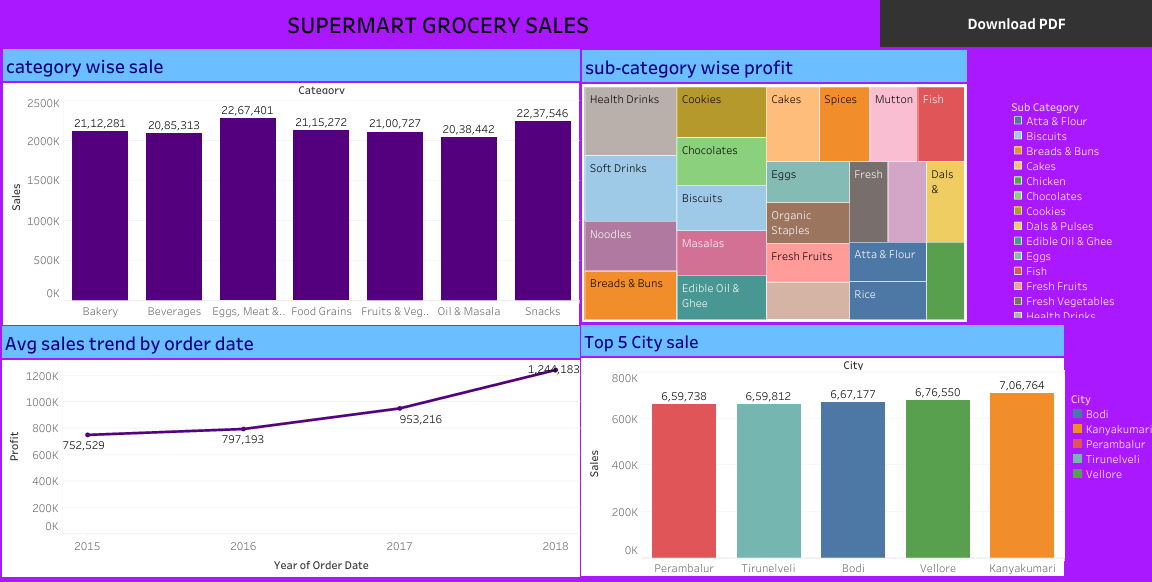

Layout of this report page (visuals, bound fields, positions):
{"tool":"tableau","page":{"name":"Dashboard 1","canvas":[1000,1000],"units":"permille","ordinal":0},"visuals":[{"type":"dashboard-object","box":[762.5,4,236.3,79.1]},{"type":"image","box":[5,10.7,494.5,978.6]},{"type":"image","box":[499.5,10.7,495.5,978.6]},{"type":"worksheet","title":"category wise sale","mark":"Automatic","rows":["Sales"],"cols":["Category"],"box":[3.2,88.5,499.4,469.2]},{"type":"worksheet","title":"sub-category wise profit","mark":"Automatic","box":[504.4,89.8,495.6,463.8]},{"type":"legend","title":"sub-category wise profit","param":"[federated.1dccovg1x64m8x11bb53806f2xos].[none:Sub Category:nk]","box":[875.6,168.9,97.4,375.3]},{"type":"worksheet","title":"TOP 5 City sale","mark":"Automatic","rows":["Sales"],"cols":["City"],"box":[504.4,559,418.3,439.7]},{"type":"worksheet","title":"Avg sales trend by order date","mark":"Automatic","rows":["Profit"],"cols":["Order Date"],"box":[1.9,560.3,500.6,426.3]}]}

Visuals, with their boxes on the dashboard's canvas, which has no fixed pixel size, in thousandths of its width and height (x1, y1, x2, y2). These are canvas units, not pixel positions in the 1152x582 screenshot, which may show the page scaled, cropped or inside an application window:
dashboard-object: box=[762, 4, 999, 83]
image: box=[5, 11, 500, 989]
image: box=[500, 11, 995, 989]
"category wise sale" worksheet: box=[3, 88, 503, 558]
"sub-category wise profit" worksheet: box=[504, 90, 1000, 554]
"sub-category wise profit" legend: box=[876, 169, 973, 544]
"TOP 5 City sale" worksheet: box=[504, 559, 923, 999]
"Avg sales trend by order date" worksheet: box=[2, 560, 502, 987]
